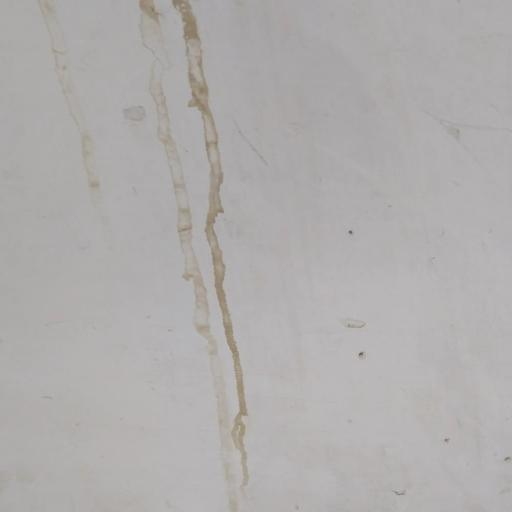stain: (104, 0, 291, 512), (34, 0, 151, 252), (311, 216, 374, 370)
